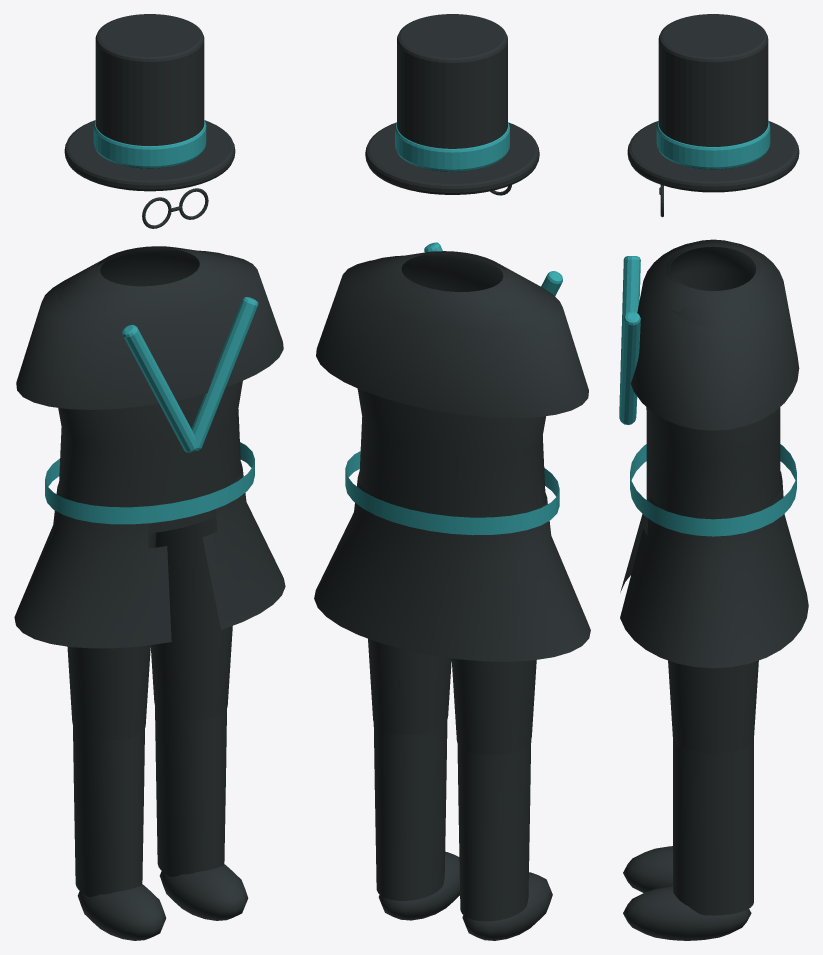
File: MuseumMysticOutfit.glb
3 views of the same model, side by side, from view 1: azimuth 30°, elevation 25°; view 2: azimuth 150°, elevation 25°; view 3: azimuth 270°, elevation 25° (orthographic). The views are drawn at different scales.
Parts seen in each view (by area): view 1: Chest_Mystic shoulder cape, Hips_Draped hem, Chest_Tailored garment, Head_Top hat crown, LeftUpperLeg_Trousers, RightLowerLeg_Trouser hem, LeftLowerLeg_Trouser hem, RightUpperLeg_Trousers, Head_Top hat brim, Hips_Woven belt, LeftFoot_Boot toe, RightFoot_Boot toe (+3 smaller); view 2: Hips_Draped hem, Chest_Mystic shoulder cape, Chest_Tailored garment, Head_Top hat crown, RightLowerLeg_Trouser hem, LeftLowerLeg_Trouser hem, RightUpperLeg_Trousers, LeftUpperLeg_Trousers, Head_Top hat brim, Hips_Woven belt, Head_Teal hat band, RightFoot_Boot toe (+1 smaller); view 3: Hips_Draped hem, Chest_Mystic shoulder cape, Chest_Tailored garment, Head_Top hat crown, LeftLowerLeg_Trouser hem, LeftUpperLeg_Trousers, Head_Top hat brim, LeftFoot_Boot toe, Hips_Woven belt, Head_Teal hat band, Chest_Teal lapel.001, RightFoot_Boot toe (+1 smaller).
Boxes of the visible parts, x1=… form: Chest_Mystic shoulder cape: x1=16, y1=246, x2=283, y2=409; Hips_Draped hem: x1=14, y1=462, x2=285, y2=648; Chest_Tailored garment: x1=58, y1=248, x2=242, y2=533; Head_Top hat crown: x1=95, y1=14, x2=204, y2=168; LeftUpperLeg_Trousers: x1=150, y1=516, x2=232, y2=719; RightLowerLeg_Trouser hem: x1=73, y1=725, x2=144, y2=896; LeftLowerLeg_Trouser hem: x1=155, y1=705, x2=226, y2=876; RightUpperLeg_Trousers: x1=67, y1=532, x2=155, y2=739; Head_Top hat brim: x1=64, y1=120, x2=235, y2=191; Hips_Woven belt: x1=45, y1=442, x2=254, y2=524; LeftFoot_Boot toe: x1=159, y1=864, x2=248, y2=920; RightFoot_Boot toe: x1=77, y1=884, x2=166, y2=940; Hips_Draped hem: x1=314, y1=471, x2=590, y2=661; Chest_Mystic shoulder cape: x1=316, y1=251, x2=588, y2=418; Chest_Tailored garment: x1=357, y1=253, x2=545, y2=517; Head_Top hat crown: x1=397, y1=14, x2=507, y2=171; RightLowerLeg_Trouser hem: x1=457, y1=740, x2=531, y2=921; LeftLowerLeg_Trouser hem: x1=373, y1=720, x2=447, y2=900; RightUpperLeg_Trousers: x1=451, y1=658, x2=536, y2=755; LeftUpperLeg_Trousers: x1=368, y1=638, x2=451, y2=734; Head_Top hat brim: x1=365, y1=122, x2=539, y2=194; Hips_Woven belt: x1=345, y1=451, x2=559, y2=535; Head_Teal hat band: x1=395, y1=122, x2=509, y2=171; RightFoot_Boot toe: x1=462, y1=872, x2=552, y2=940; Hips_Draped hem: x1=620, y1=471, x2=808, y2=668; Chest_Mystic shoulder cape: x1=631, y1=243, x2=799, y2=430; Chest_Tailored garment: x1=646, y1=239, x2=780, y2=519; Head_Top hat crown: x1=658, y1=14, x2=768, y2=169; LeftLowerLeg_Trouser hem: x1=673, y1=739, x2=753, y2=915; LeftUpperLeg_Trousers: x1=668, y1=660, x2=758, y2=753; Head_Top hat brim: x1=627, y1=121, x2=799, y2=192; LeftFoot_Boot toe: x1=623, y1=886, x2=751, y2=940; Hips_Woven belt: x1=630, y1=444, x2=796, y2=536; Head_Teal hat band: x1=656, y1=121, x2=770, y2=169; Chest_Teal lapel.001: x1=619, y1=311, x2=640, y2=424; RightFoot_Boot toe: x1=623, y1=846, x2=672, y2=892.
Size of the model in its own units: 0.62 by 2.04 by 0.3977.
